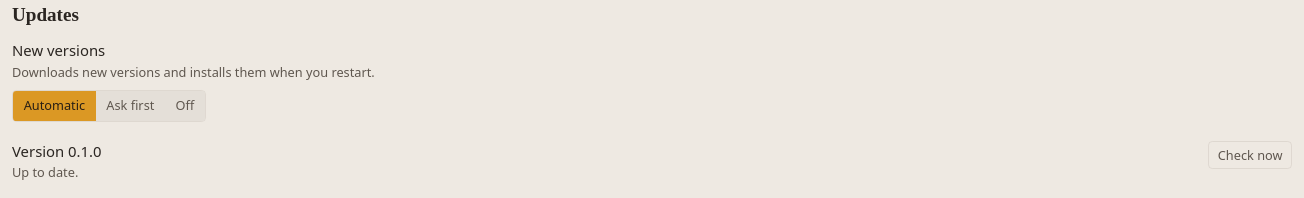
Test case: UpdatesSection › shows the version and checks on request
expect the text "Version 0.1.0" is shown: met, box [12, 141, 102, 161]
expect the text "Up to date." is shown: met, box [12, 163, 78, 181]
Click the button "Check now": (1250, 155) [1208, 141, 1292, 169]
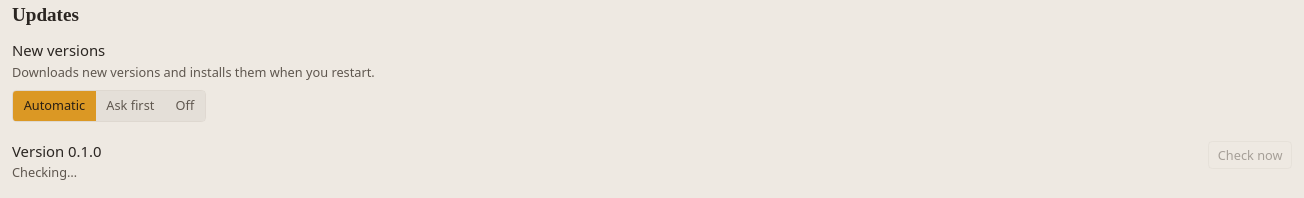
expect the button "Check now" is disabled: met, box [1208, 141, 1292, 169]
